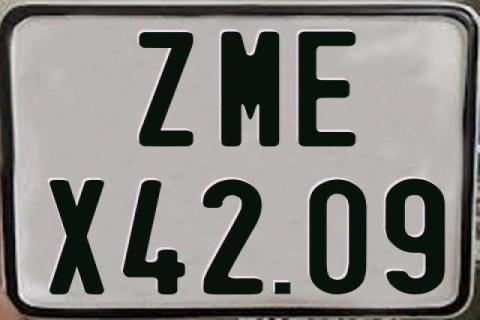0: (308, 179, 372, 297), (123, 179, 185, 296), (200, 178, 260, 296), (386, 178, 446, 296)
E: (296, 31, 358, 148)
M: (220, 30, 280, 148)
X: (46, 179, 104, 297)
Z: (136, 32, 195, 148)
